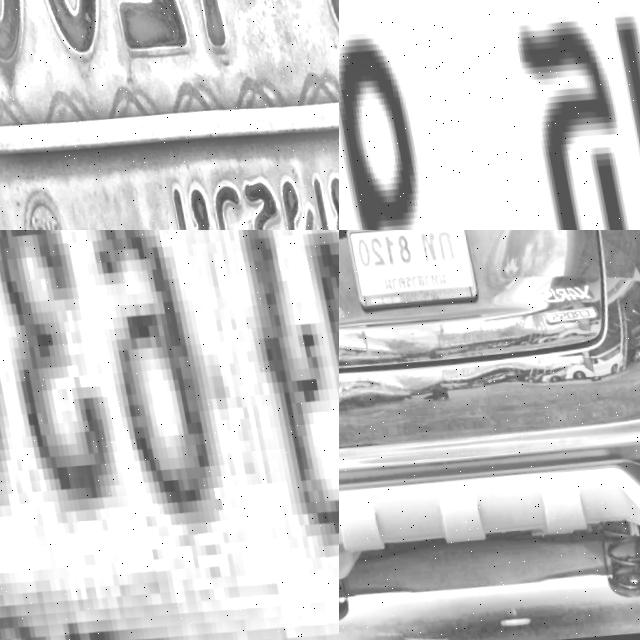license-plate: (0, 230, 339, 640), (0, 0, 339, 230), (339, 0, 640, 230), (339, 230, 475, 315)
